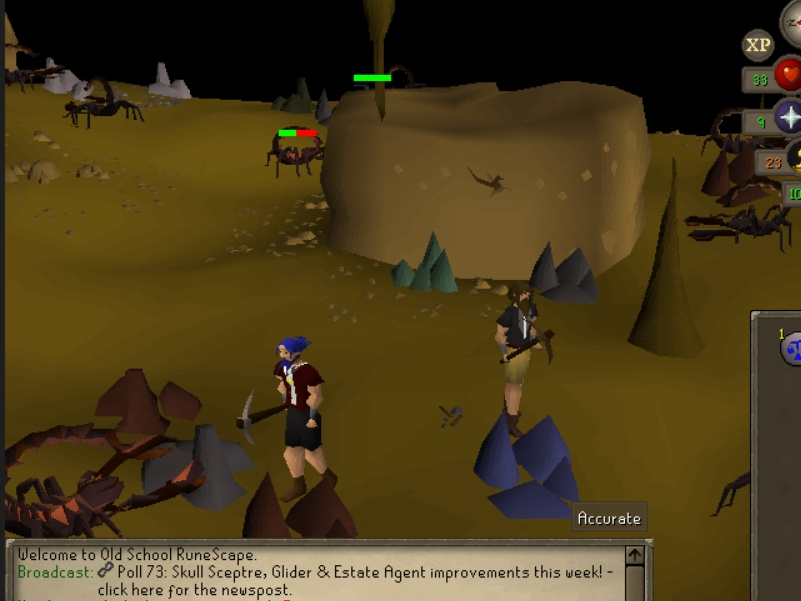adamant: (388, 228, 463, 297)
coal: (273, 74, 318, 122)
iron: (240, 465, 369, 540), (89, 361, 208, 441), (701, 138, 791, 205)
mithril: (468, 399, 587, 522)
tin: (148, 56, 198, 108), (41, 51, 91, 103)
